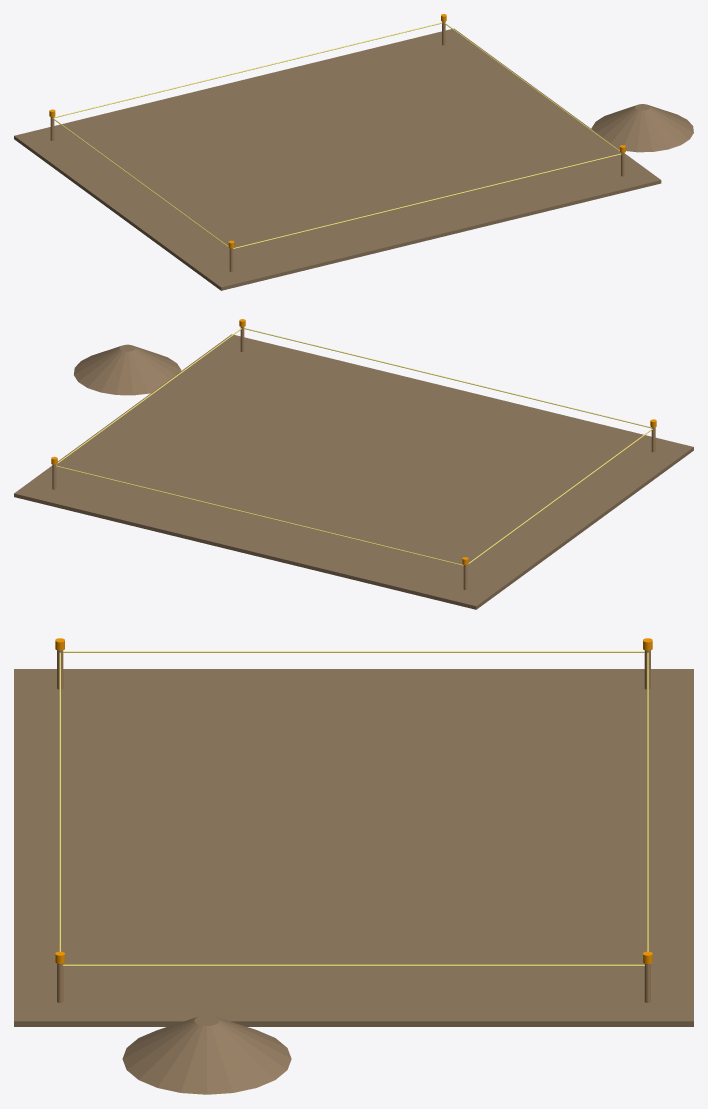
File: Building7Stage0.glb
3 renders of one model, top to bottom at view 1: azimuth 30°, elevation 25°; view 2: azimuth 150°, elevation 25°; view 3: azimuth 270°, elevation 25°, orthographic. The views are drawn at different scales.
Visible parts, largest first — view 1: building7_stage0; view 2: building7_stage0; view 3: building7_stage0.
Boxes of the visible parts, <box> form: building7_stage0: <box>14,14,693,290</box>; building7_stage0: <box>14,319,693,609</box>; building7_stage0: <box>14,638,693,1094</box>.
Bounding box in the file's own units: 14.87 × 0.8855 × 10.17.
